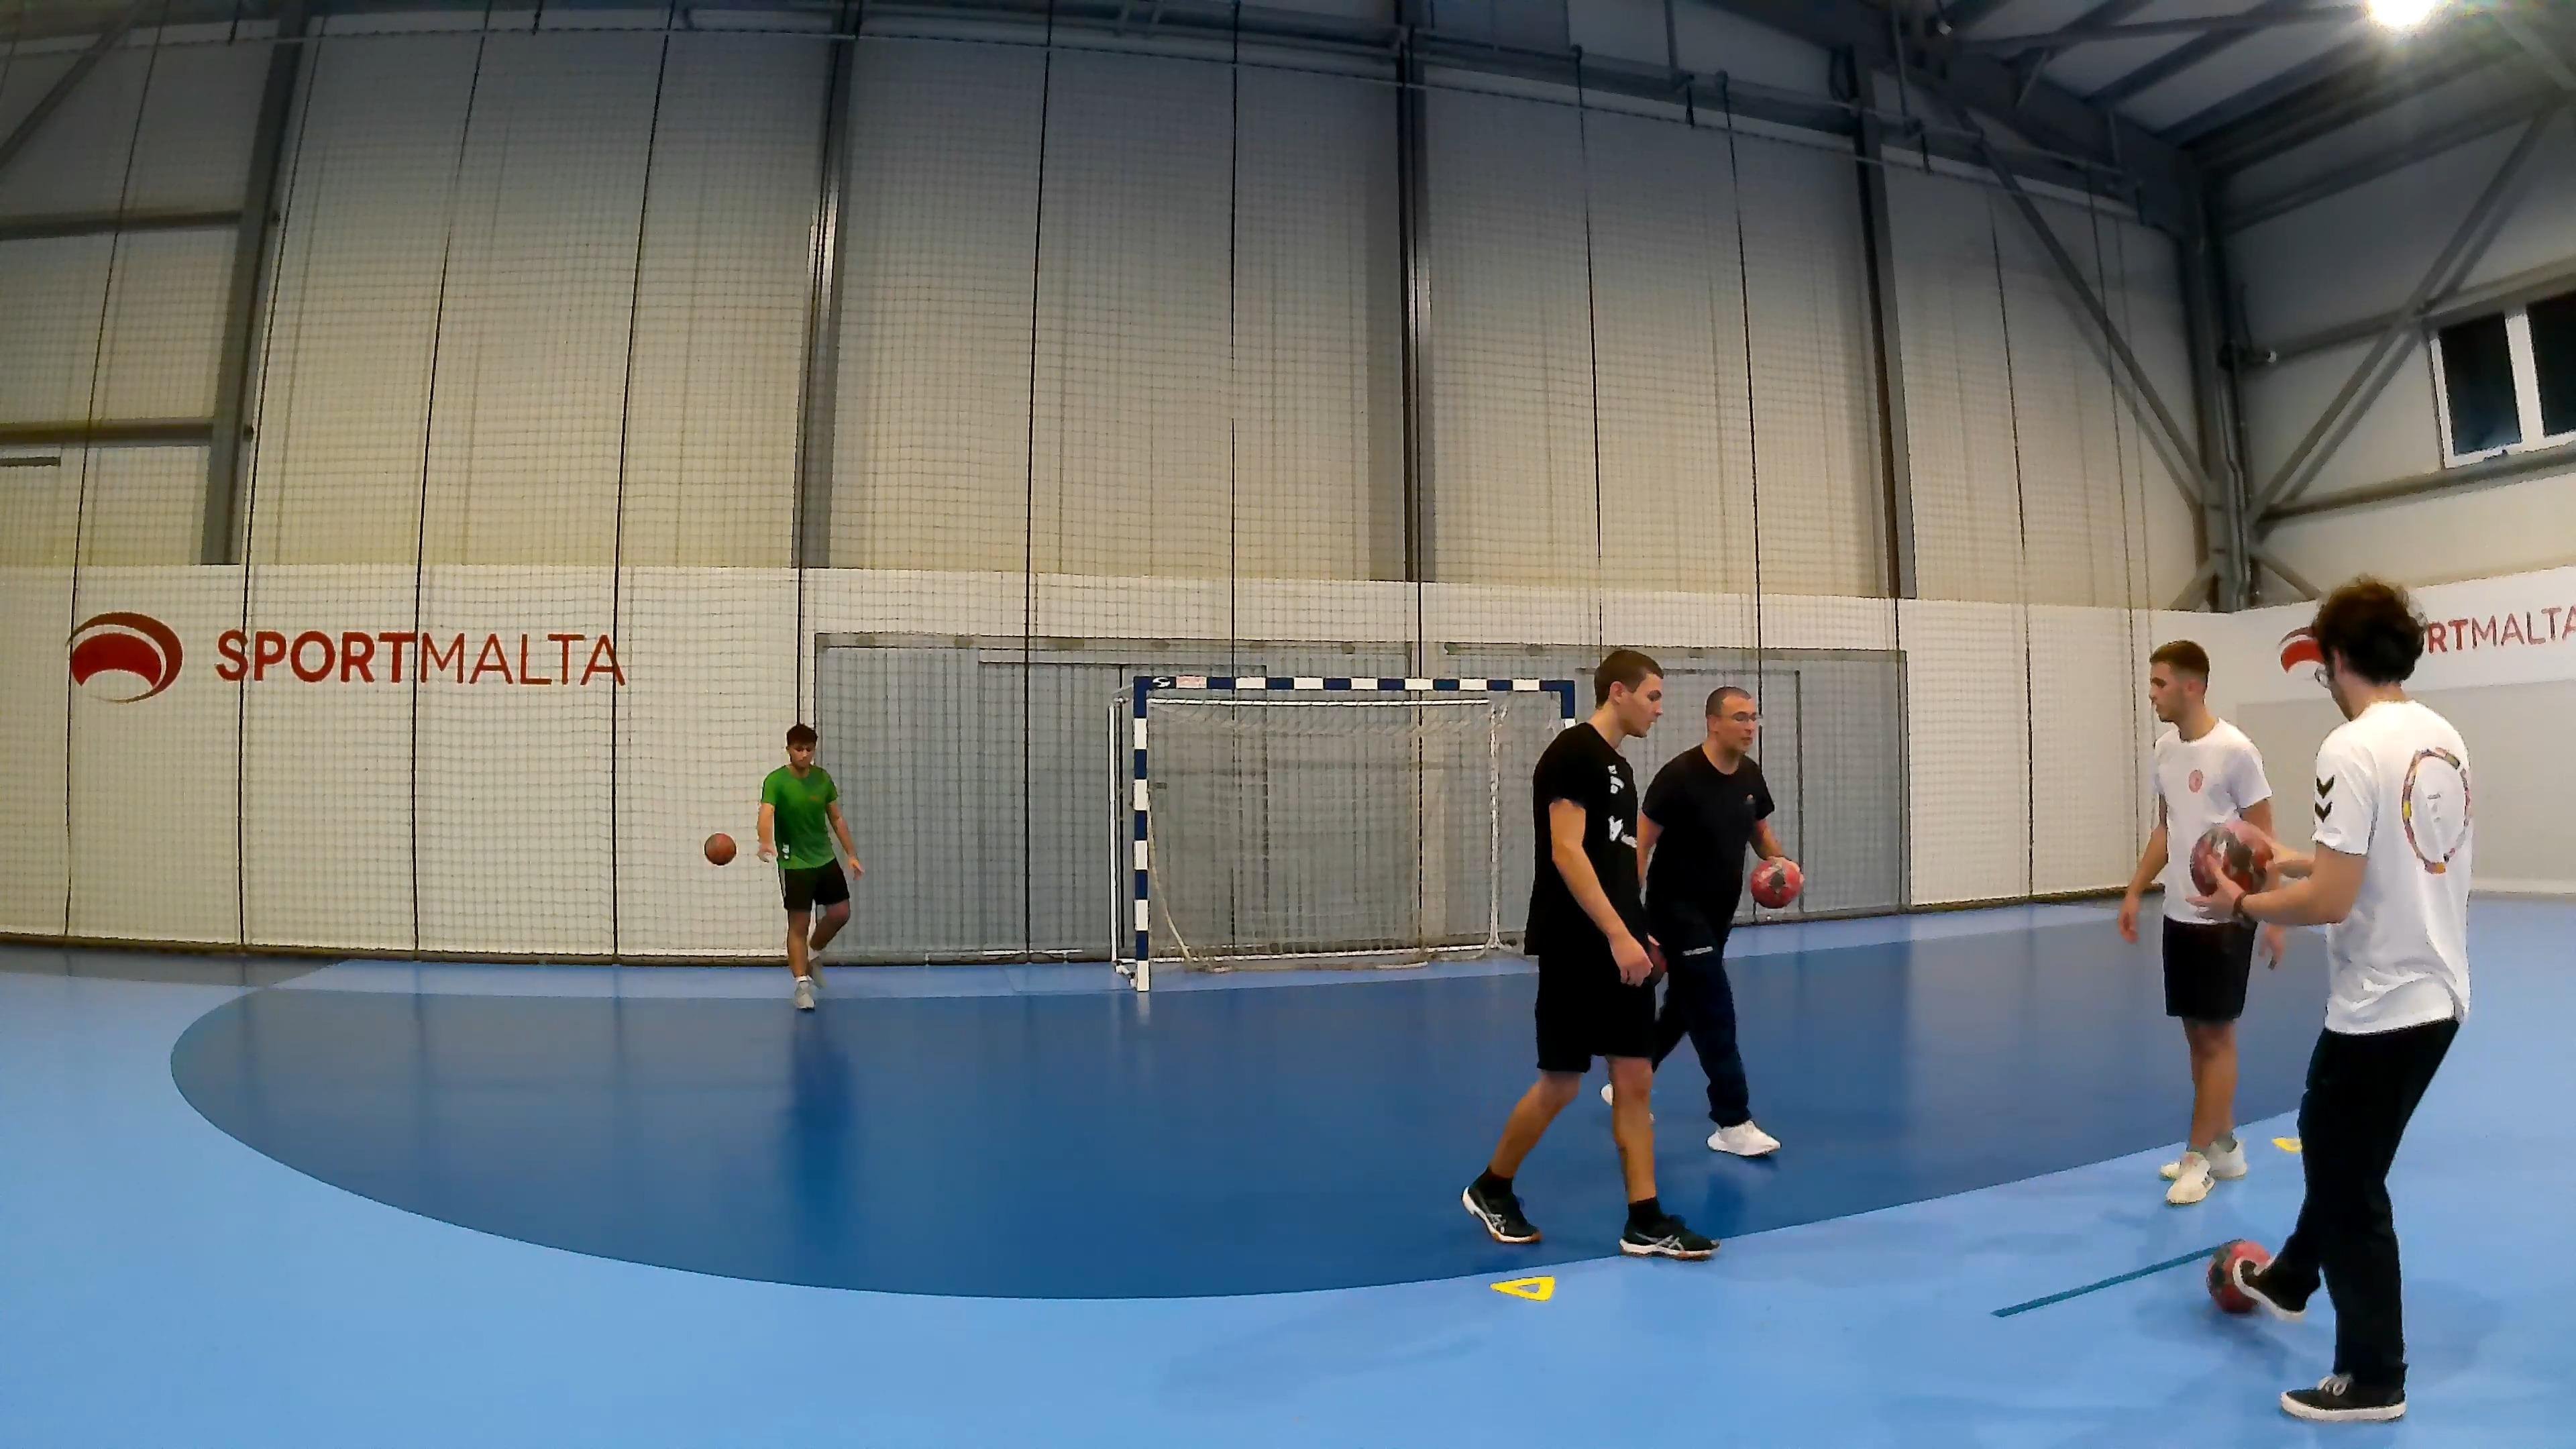handball: (2187, 823, 2265, 897), (2204, 1238, 2272, 1313), (1748, 856, 1801, 908), (702, 832, 736, 863)
